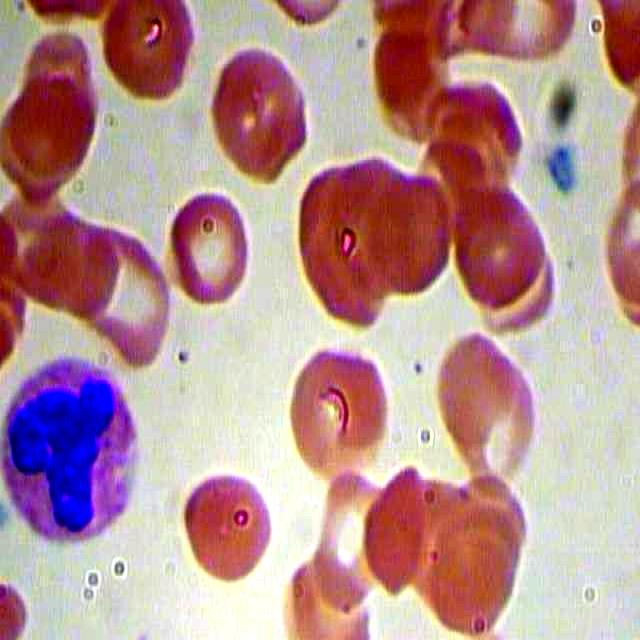Platelets: (533, 144, 580, 201)
RBC: (205, 40, 314, 191), (79, 224, 180, 372), (287, 347, 389, 489), (448, 171, 550, 313), (353, 164, 454, 299), (423, 513, 518, 640), (430, 324, 525, 449), (22, 205, 122, 323), (178, 467, 278, 584), (162, 188, 262, 305), (95, 1, 198, 108), (2, 76, 98, 183), (369, 24, 434, 116)
WBC: (1, 352, 161, 552)
